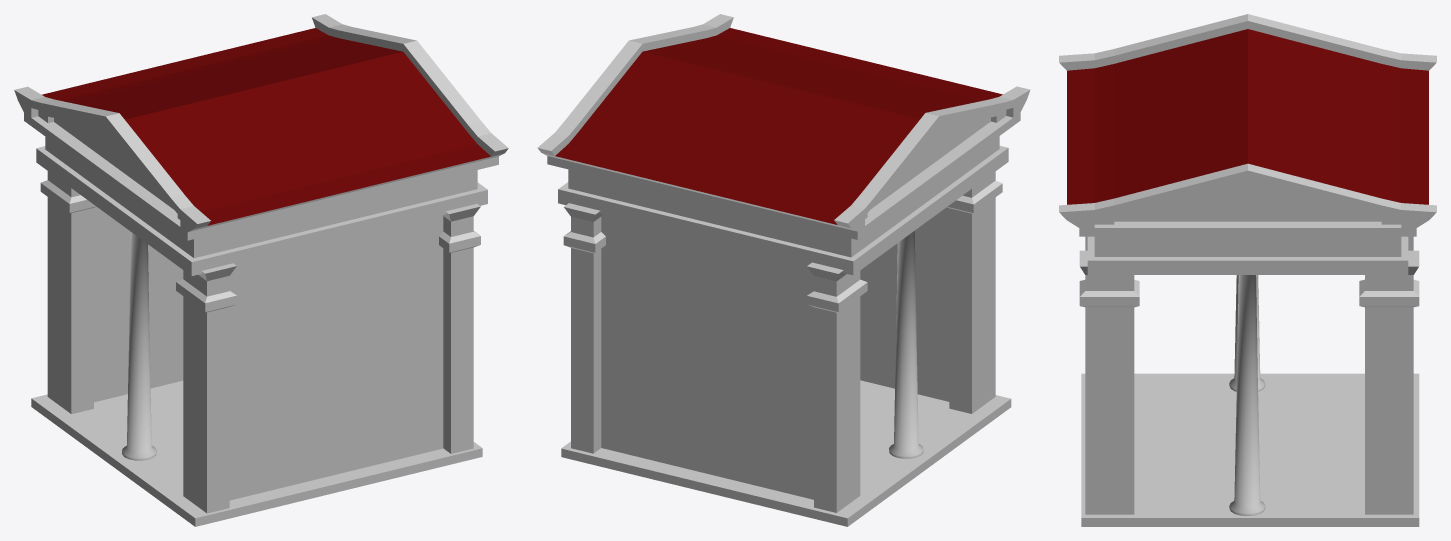
3 renders of one model, left to right at view 1: azimuth 30°, elevation 25°; view 2: azimuth 150°, elevation 25°; view 3: azimuth 270°, elevation 25°, orthographic. The views are drawn at different scales.
Parts seen in each view (by area): view 1: Plane_018; view 2: Plane_018; view 3: Plane_018.
Boxes of the visible parts, x1,y1,x2,y2 form: Plane_018: (14, 14, 508, 526); Plane_018: (537, 14, 1030, 526); Plane_018: (1059, 14, 1436, 526).
Bounding box in the file's own units: 3.91 × 4.24 × 3.99.
